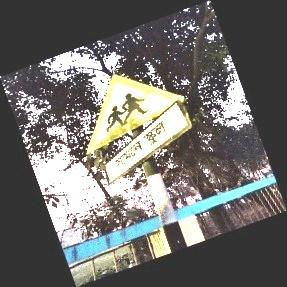School-in-front: (86, 74, 189, 187)
